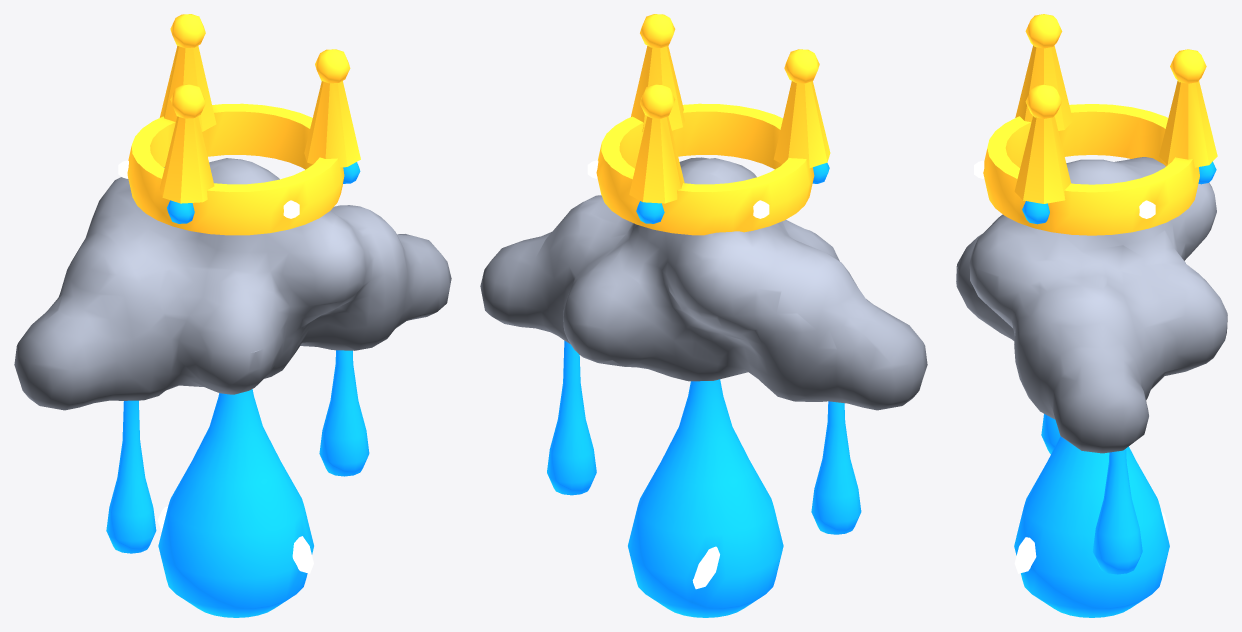
Rendered from water-drop.glb.
3 renders of one model, left to right at view 1: azimuth 30°, elevation 25°; view 2: azimuth 150°, elevation 25°; view 3: azimuth 270°, elevation 25°, orthographic.
Parts seen in each view (by area): view 1: Water Drop Storm cloud, Water Drop Water Drop cyan, Leader crown band, Leader crown point 2, Leader crown point 3, Leader crown point 1, Water Drop Drop shine; view 2: Water Drop Storm cloud, Water Drop Water Drop cyan, Leader crown band, Leader crown point 1, Leader crown point 2, Leader crown point 3, Water Drop Drop shine; view 3: Water Drop Storm cloud, Water Drop Water Drop cyan, Leader crown band, Leader crown point 3, Leader crown point 1, Leader crown point 2, Water Drop Drop shine.
Part boxes in pixels (bbox=[...]): Water Drop Storm cloud: bbox=[14, 158, 451, 410]; Water Drop Water Drop cyan: bbox=[106, 162, 369, 617]; Leader crown band: bbox=[127, 103, 344, 235]; Leader crown point 2: bbox=[159, 84, 214, 203]; Leader crown point 3: bbox=[304, 49, 360, 167]; Leader crown point 1: bbox=[159, 14, 216, 131]; Water Drop Drop shine: bbox=[118, 160, 313, 573]; Water Drop Storm cloud: bbox=[480, 157, 927, 410]; Water Drop Water Drop cyan: bbox=[547, 163, 861, 617]; Leader crown band: bbox=[596, 103, 814, 235]; Leader crown point 1: bbox=[629, 84, 684, 203]; Leader crown point 2: bbox=[773, 49, 830, 168]; Leader crown point 3: bbox=[631, 14, 684, 131]; Water Drop Drop shine: bbox=[587, 160, 769, 589]; Water Drop Storm cloud: bbox=[956, 157, 1227, 453]; Water Drop Water Drop cyan: bbox=[1014, 161, 1216, 617]; Leader crown band: bbox=[983, 104, 1199, 235]; Leader crown point 3: bbox=[1014, 84, 1070, 203]; Leader crown point 1: bbox=[1159, 49, 1217, 167]; Leader crown point 2: bbox=[1015, 14, 1072, 130]; Water Drop Drop shine: bbox=[974, 160, 1169, 573].
Size of the model in its own units: 1.34 by 1.67 by 0.7392.
